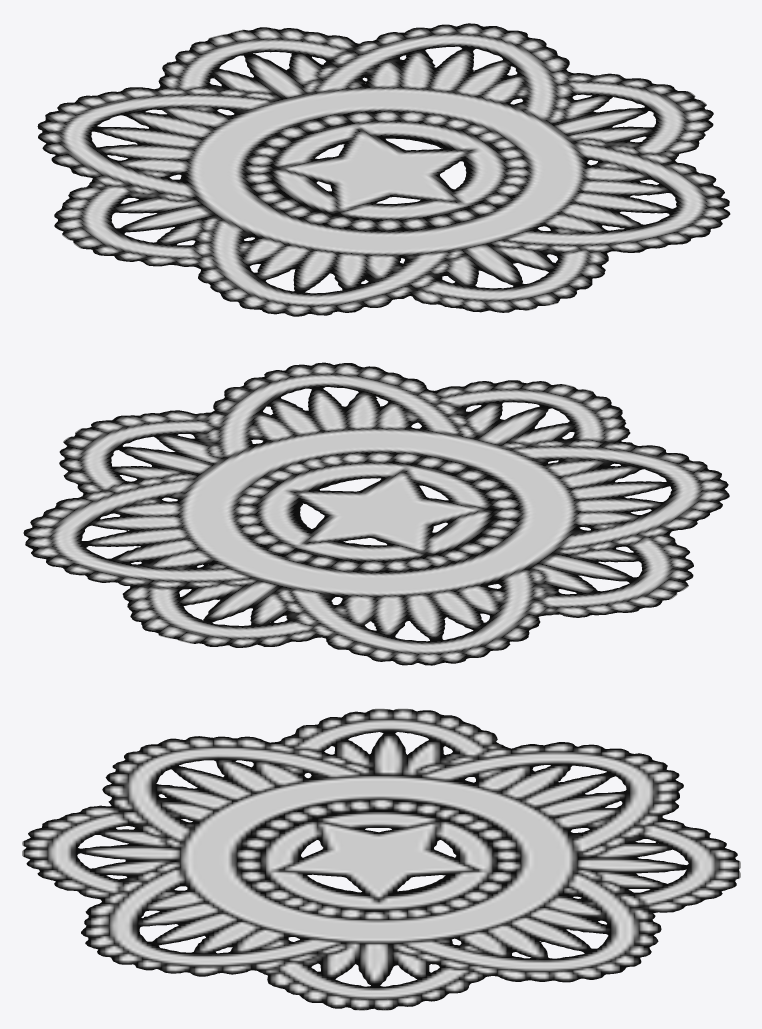
Rendered from Doily_B_2.FBX.
3 views of the same model, one above another, from view 1: azimuth 30°, elevation 25°; view 2: azimuth 150°, elevation 25°; view 3: azimuth 270°, elevation 25° (orthographic).
Visible parts, largest first — view 1: Doily; view 2: Doily; view 3: Doily.
Boxes of the visible parts, bbox=[...] form: Doily: bbox=[37, 23, 730, 316]; Doily: bbox=[23, 362, 729, 665]; Doily: bbox=[22, 708, 740, 1010].
Bounding box in the file's own units: 95.46 × 4.59e-06 × 94.01.
